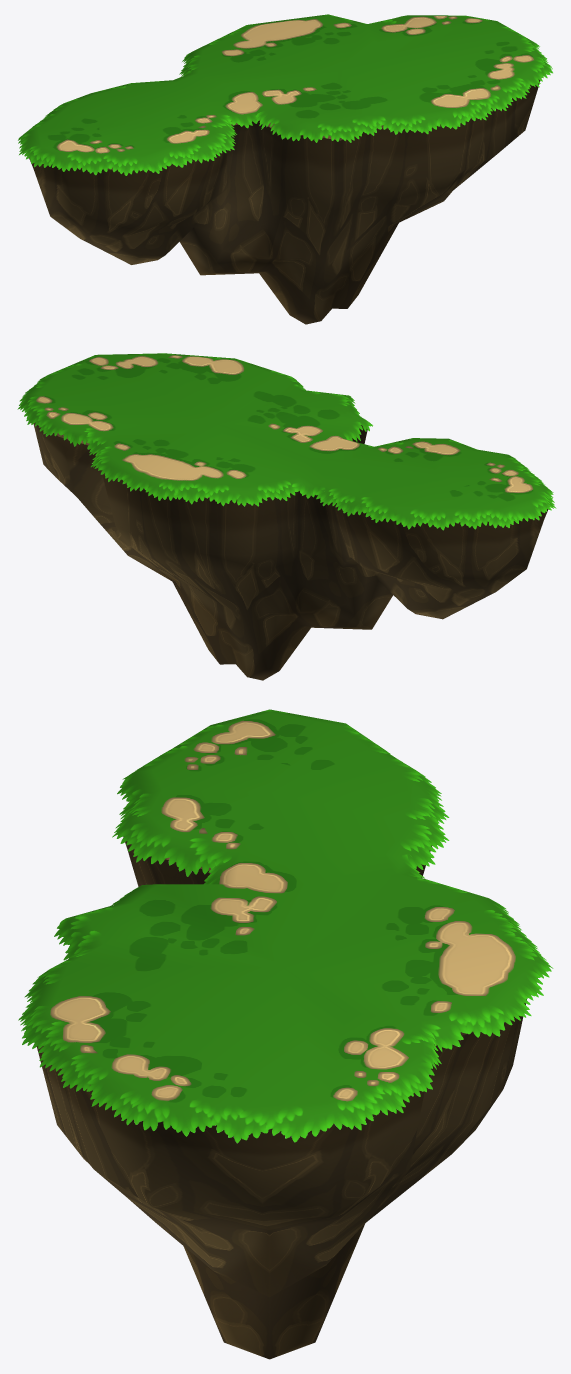
Rendered from Island_04.FBX.
The picture shows the model from 3 angles, top to bottom: view 1: azimuth 30°, elevation 25°; view 2: azimuth 150°, elevation 25°; view 3: azimuth 270°, elevation 25°; orthographic projection. The views are drawn at different scales.
Visible parts, largest first — view 1: Island_04; view 2: Island_04; view 3: Island_04.
Boxes of the visible parts, <box> form: Island_04: <box>18,14,552,324</box>; Island_04: <box>17,353,556,680</box>; Island_04: <box>18,709,553,1359</box>.
Size of the model in its own units: 1034 by 468 by 553.
